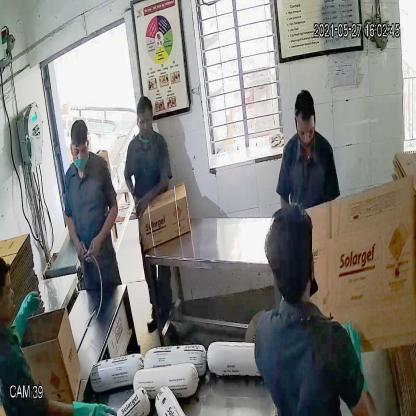no_goggles: (292, 119, 320, 142), (68, 140, 91, 159)
